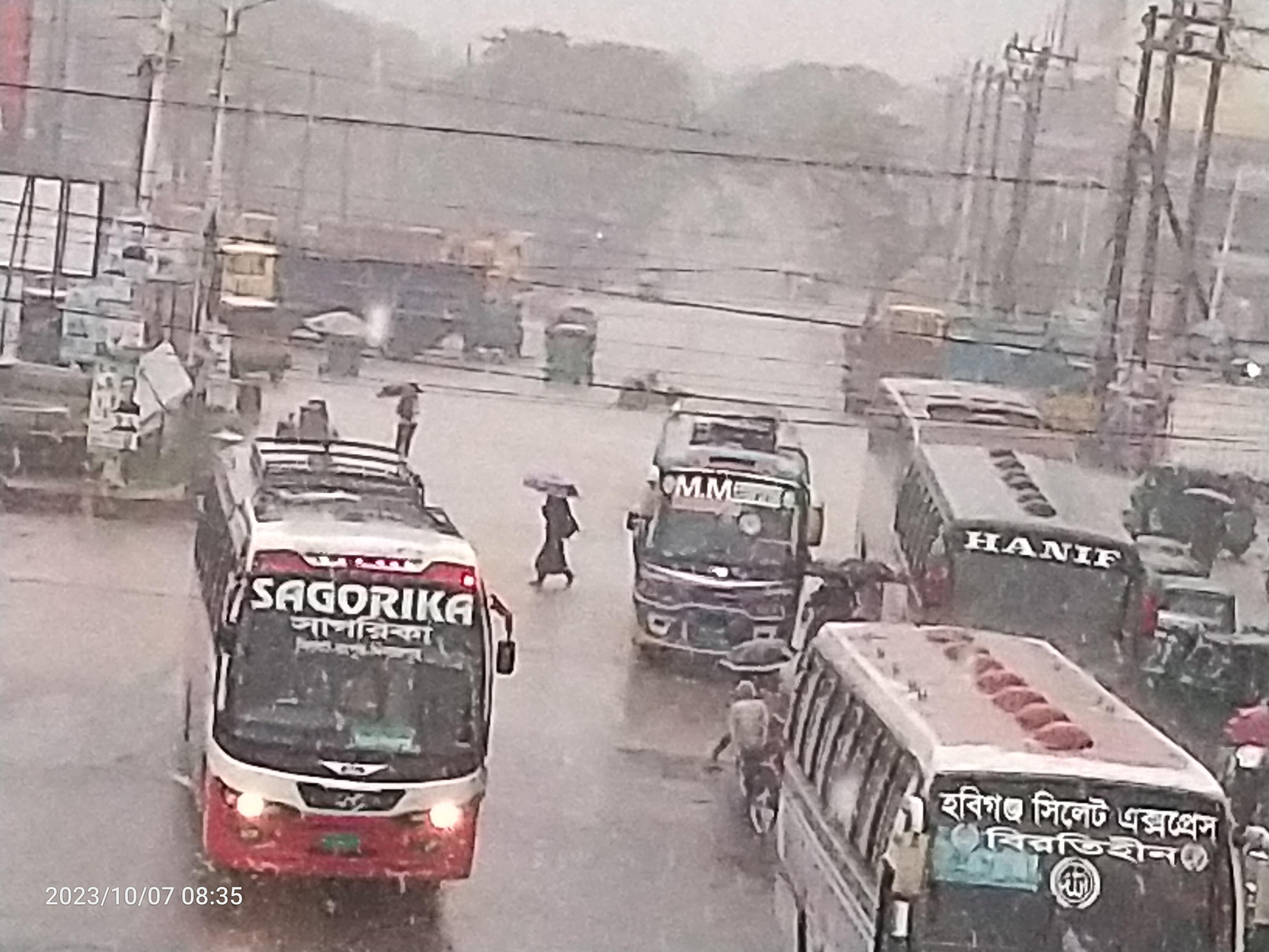Bus: (133, 411, 551, 932), (740, 604, 1263, 952), (872, 415, 1145, 693), (604, 372, 837, 693), (835, 346, 1083, 557)
Truck: (200, 195, 502, 355)
